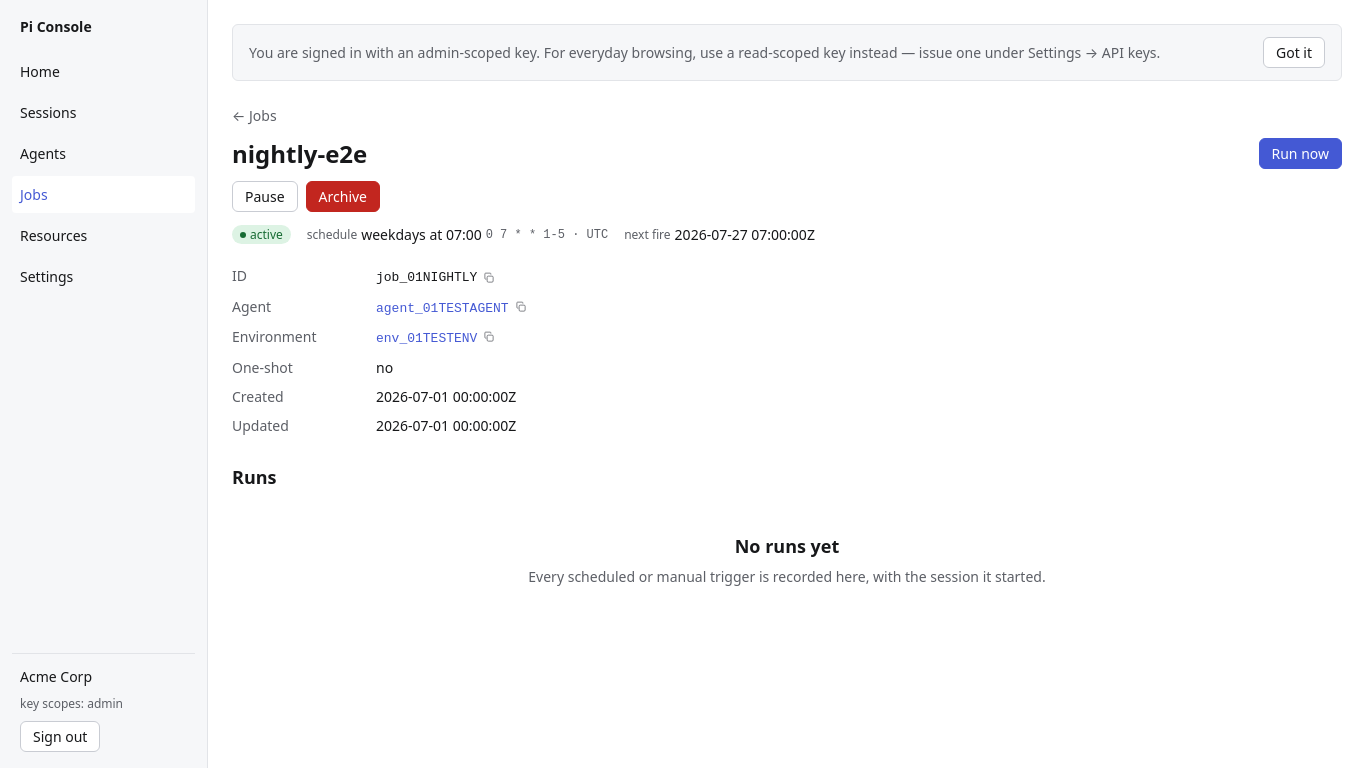
job lifecycle (§9.4, write-gated, §17.5) › admin pauses an active job; the manual-pause reason then displays
Click the button "Pause".
click(265, 197)  # box [232,181,298,212]
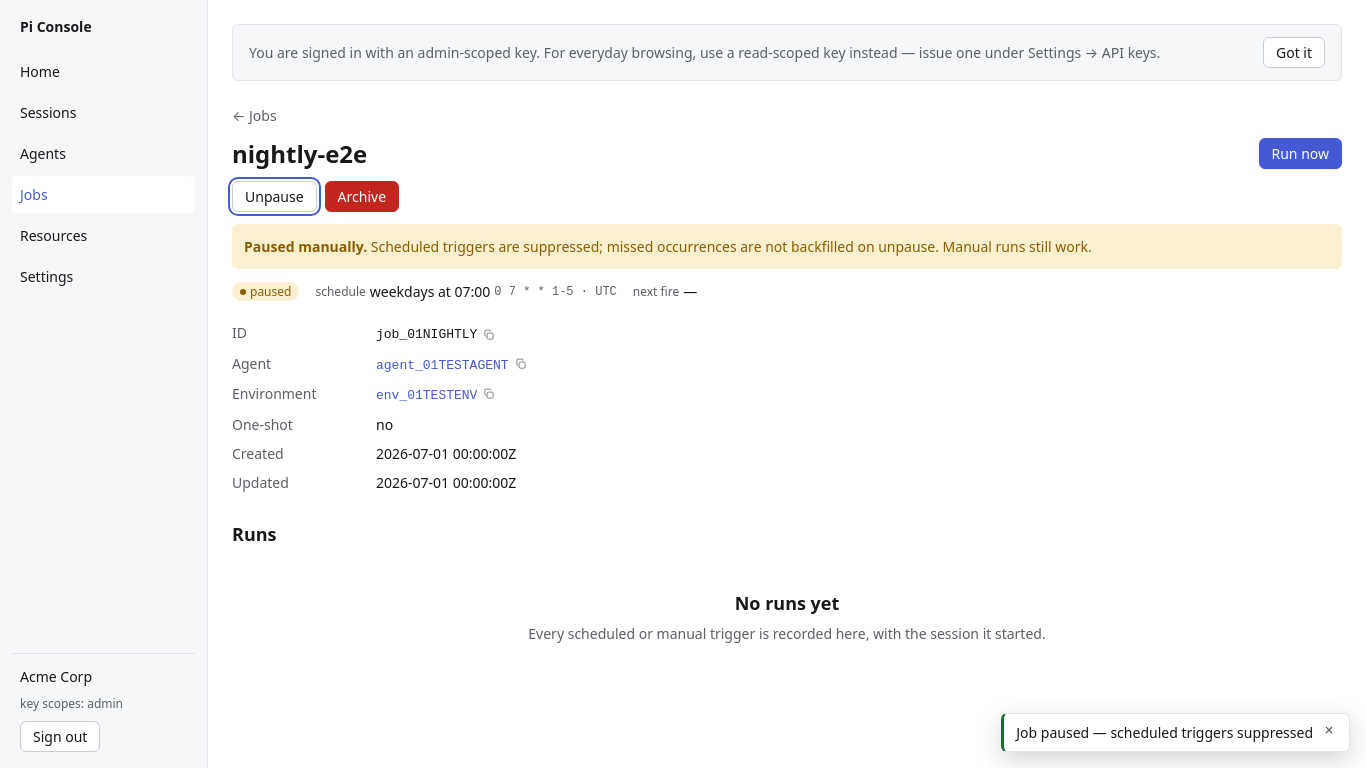
Result: the message that starts with "Paused manually." is shown at [244,237,367,256]
Result: the message that starts with "Paused manually." shows "not backfilled" at [367,237,1092,256]
Result: the button "Unpause" is shown at [232,181,317,212]
